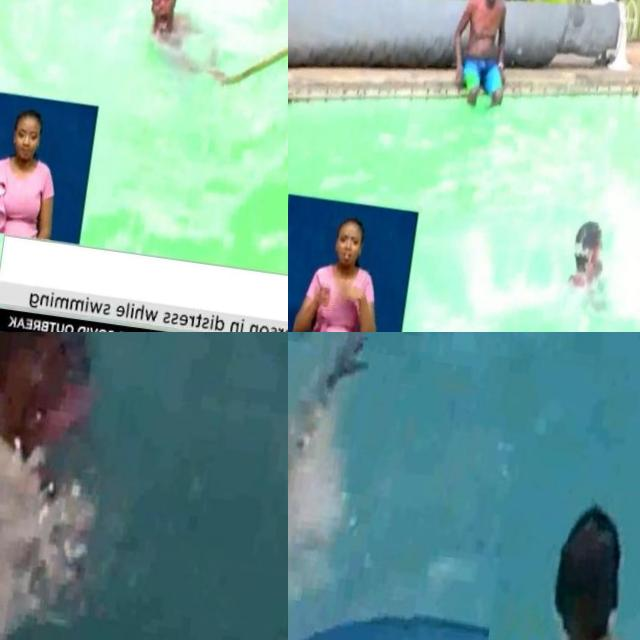drowning: (0, 332, 135, 541), (288, 332, 377, 628), (552, 210, 629, 326), (124, 0, 216, 88)
out of water: (447, 0, 521, 111)
swimming: (471, 480, 640, 640)
